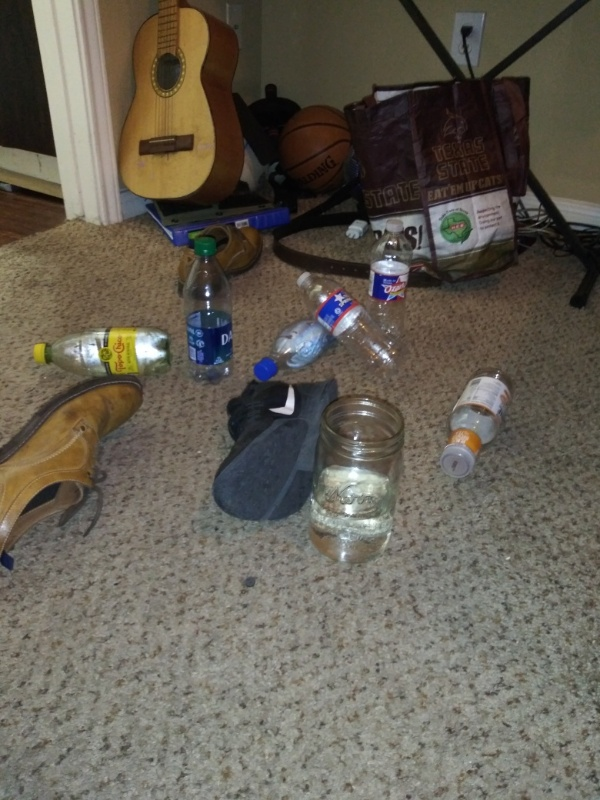bottle: (295, 264, 415, 378), (431, 362, 521, 486), (251, 293, 363, 380), (22, 325, 175, 383), (182, 234, 239, 382), (363, 214, 412, 338)
